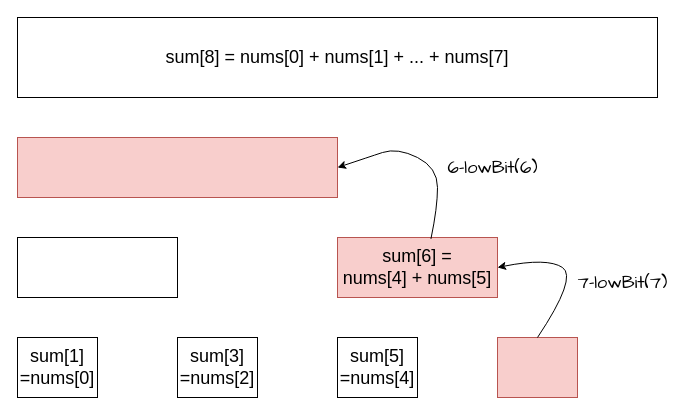
This 695x415 diagram has some shape labels left out. The shapes that lost their labels are listed below. From the top down, each one's centre as x and y in pixels, then its label:
the point at 177,167: sum[4] = nums[0] + ... + nums[3]
the point at 97,267: sum[2] = nums[0] + nums[1]
the point at 537,367: sum[7] =nums[6]
